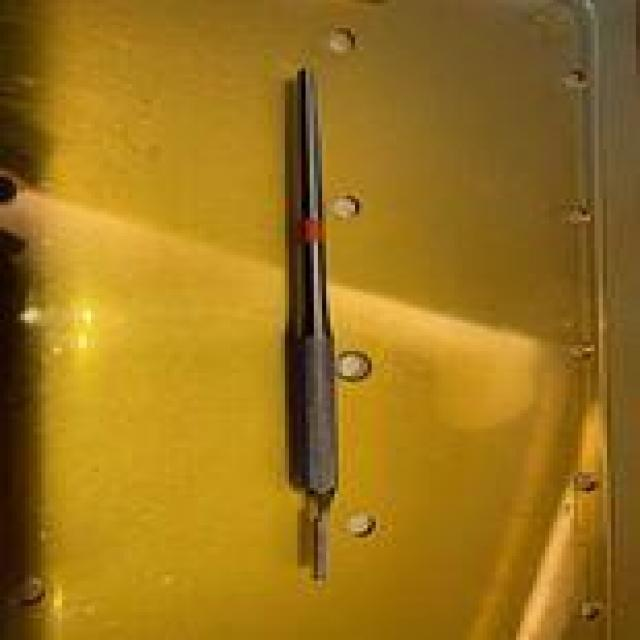Scalpel: (281, 62, 347, 587)
